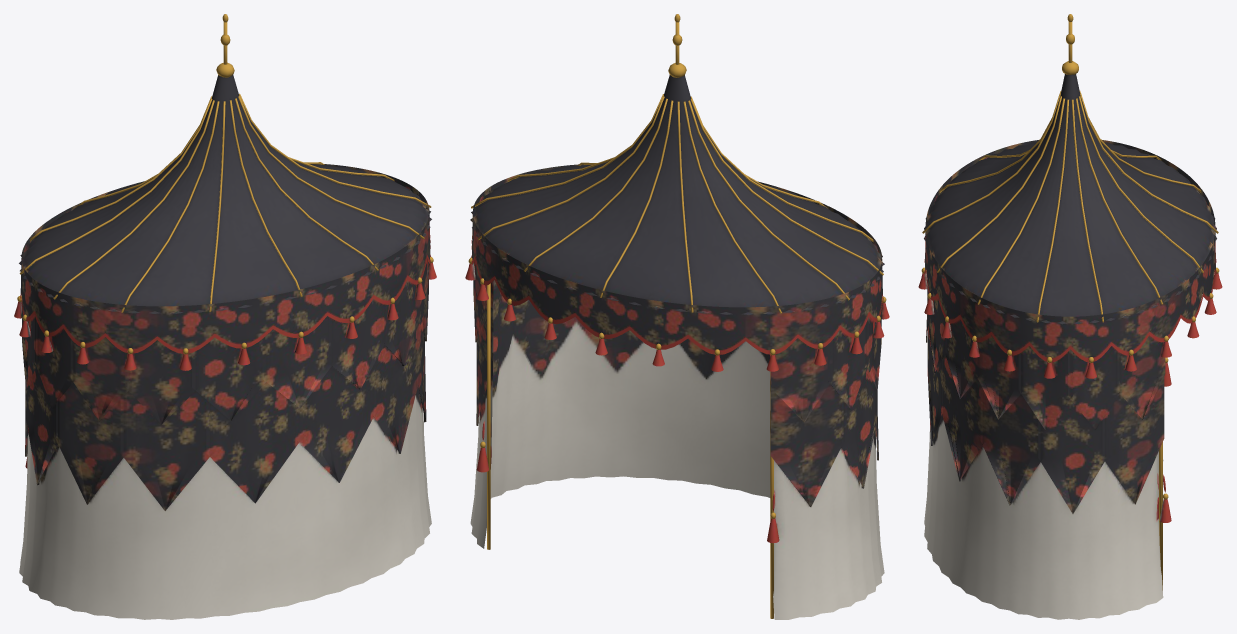
File: paper_tent.glb
3 views of the same model, side by side, from view 1: azimuth 30°, elevation 25°; view 2: azimuth 150°, elevation 25°; view 3: azimuth 270°, elevation 25° (orthographic). The views are drawn at different scales.
Parts seen in each view (by area): view 1: prop_paper_tent_felt, prop_paper_tent_brass; view 2: prop_paper_tent_felt, prop_paper_tent_brass; view 3: prop_paper_tent_felt, prop_paper_tent_brass.
Boxes of the visible parts, x1,y1,x2,y2 form: prop_paper_tent_felt: (14,74,436,619); prop_paper_tent_brass: (17,14,433,354); prop_paper_tent_felt: (465,75,889,619); prop_paper_tent_brass: (468,14,886,618); prop_paper_tent_felt: (918,74,1222,619); prop_paper_tent_brass: (921,14,1219,590).
Bounding box in the file's own units: 3.62 × 4.74 × 2.53.
2 materials, 1 textured.
